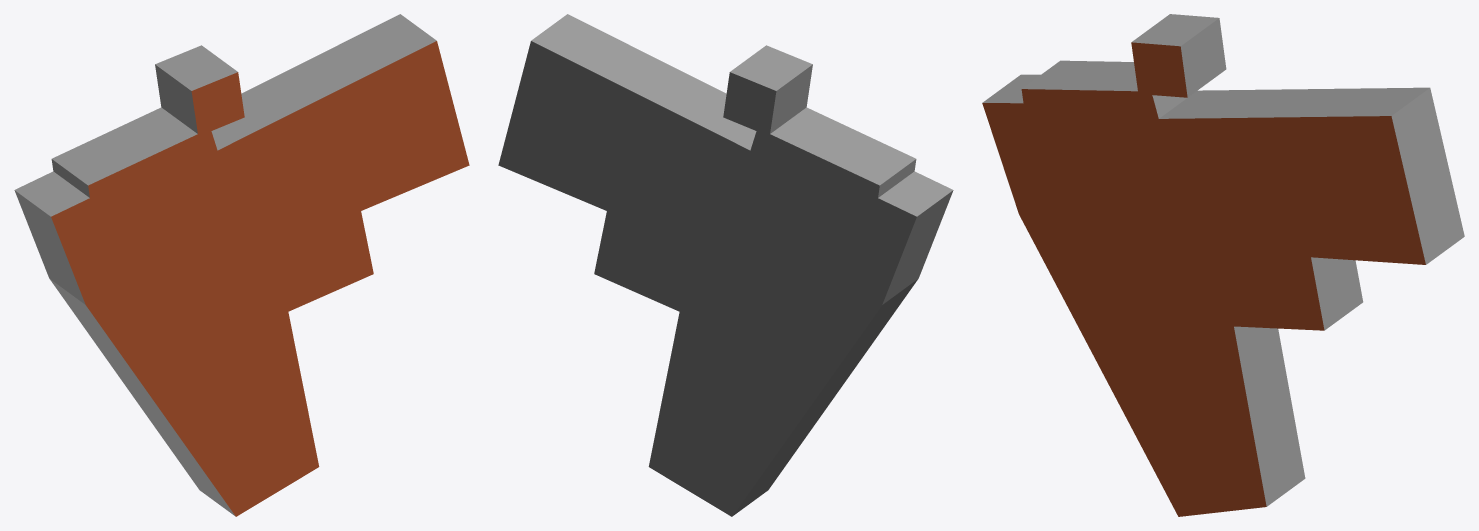
File: construction_6827_assumed_A_Casa_h6m.obj
3 views of the same model, side by side, from view 1: azimuth 30°, elevation 25°; view 2: azimuth 150°, elevation 25°; view 3: azimuth 330°, elevation 25° (orthographic). The views are drawn at different scales.
Visible parts, largest first — view 1: construction_6827_assumed_A_Casa; view 2: construction_6827_assumed_A_Casa; view 3: construction_6827_assumed_A_Casa.
Part boxes in pixels (<box>): construction_6827_assumed_A_Casa: <box>14,14,469,516</box>; construction_6827_assumed_A_Casa: <box>498,14,953,516</box>; construction_6827_assumed_A_Casa: <box>982,14,1464,516</box>.
Size of the model in its own units: 39.64 by 40.21 by 6.
